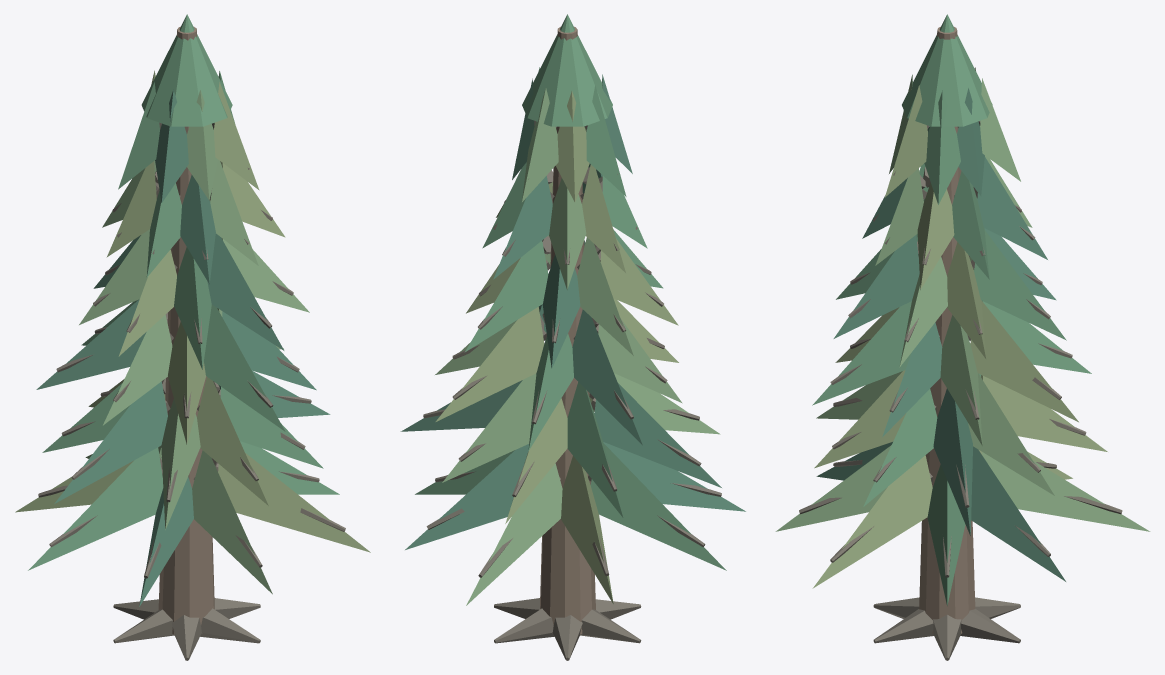
The model's file is pine_young.glb.
3 renders of one model, left to right at view 1: azimuth 30°, elevation 25°; view 2: azimuth 150°, elevation 25°; view 3: azimuth 270°, elevation 25°, orthographic.
Parts seen in each view (by area): view 1: pine_young_needle, pine_young_needle_deep, pine_young_needle_olive, pine_young_needle_light, pine_young_bark_dark, pine_young_bark; view 2: pine_young_needle, pine_young_needle_deep, pine_young_needle_light, pine_young_needle_olive, pine_young_bark_dark, pine_young_bark; view 3: pine_young_needle, pine_young_needle_olive, pine_young_needle_light, pine_young_needle_deep, pine_young_bark_dark, pine_young_bark.
Part boxes in pixels (x1,y1,x2,y2): pine_young_needle: (28,14,339,570); pine_young_needle_deep: (36,89,330,606); pine_young_needle_olive: (15,70,370,552); pine_young_needle_light: (79,90,309,594); pine_young_bark_dark: (38,122,345,660); pine_young_bark: (158,26,214,634); pine_young_needle: (415,14,726,570); pine_young_needle_deep: (400,74,745,549); pine_young_needle_light: (435,88,720,605); pine_young_needle_olive: (435,91,678,603); pine_young_bark_dark: (423,120,721,660); pine_young_bark: (540,26,595,634); pine_young_needle: (812,14,1091,605); pine_young_needle_olive: (812,67,1107,588); pine_young_needle_light: (775,74,1150,531); pine_young_needle_deep: (816,88,1065,581); pine_young_bark_dark: (799,121,1122,660); pine_young_bark: (919,26,975,633).
Bounding box in the file's own units: 1.76 × 3.31 × 1.82.
